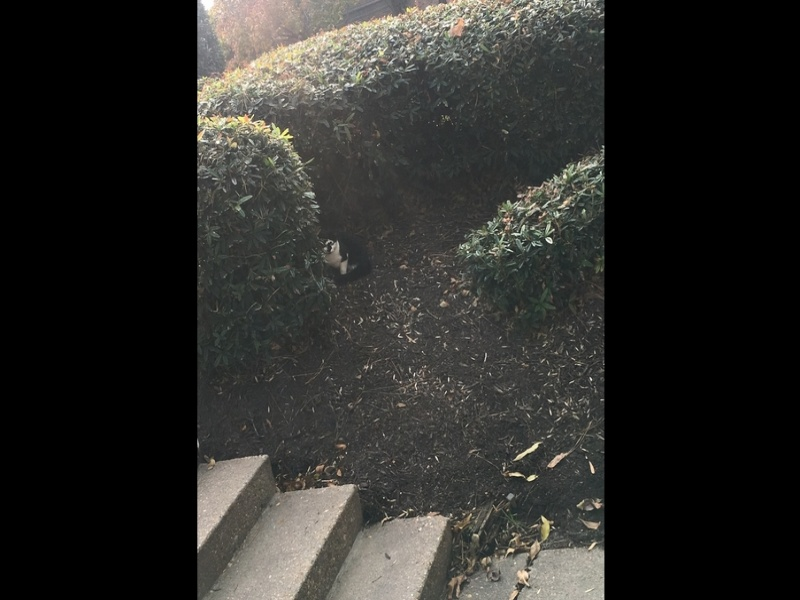cat: (316, 233, 375, 280)
